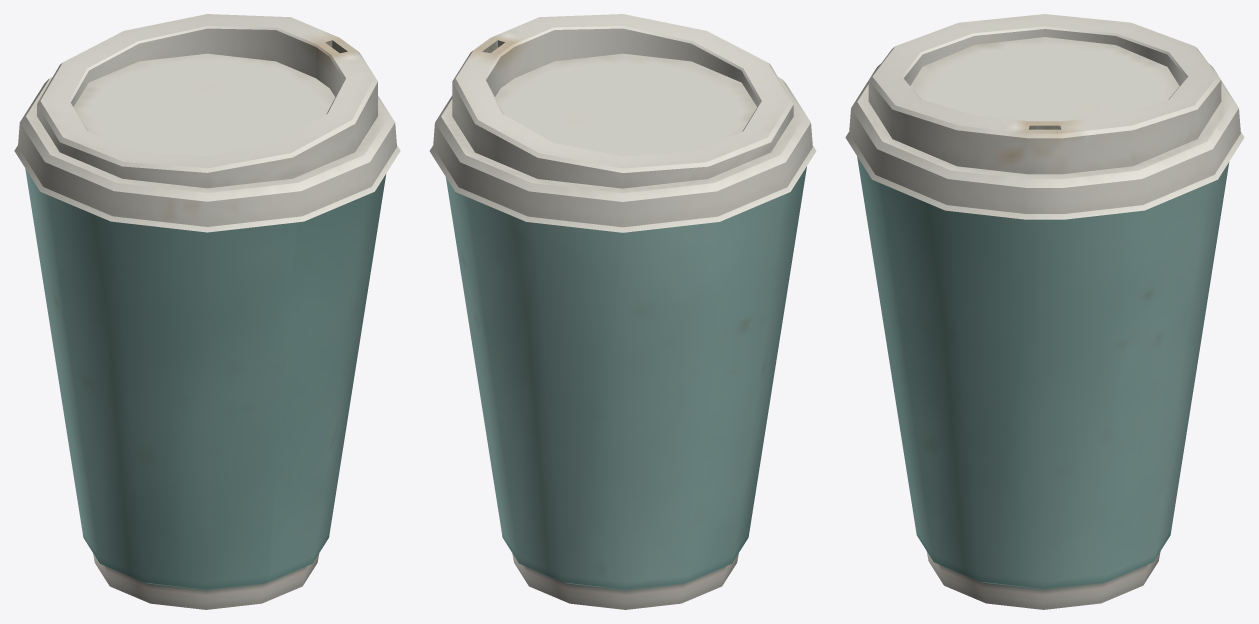
Rendered from SM_TakeawayCup.fbx.
The picture shows the model from 3 angles, left to right: view 1: azimuth 30°, elevation 25°; view 2: azimuth 150°, elevation 25°; view 3: azimuth 270°, elevation 25°; orthographic projection. The views are drawn at different scales.
Visible parts, largest first — view 1: SM_TakeawayCup; view 2: SM_TakeawayCup; view 3: SM_TakeawayCup.
Boxes of the visible parts, bbox=[...] form: SM_TakeawayCup: bbox=[14, 14, 400, 609]; SM_TakeawayCup: bbox=[429, 14, 816, 609]; SM_TakeawayCup: bbox=[845, 14, 1244, 609].
Size of the model in its own units: 2.27 by 3.18 by 2.3.
